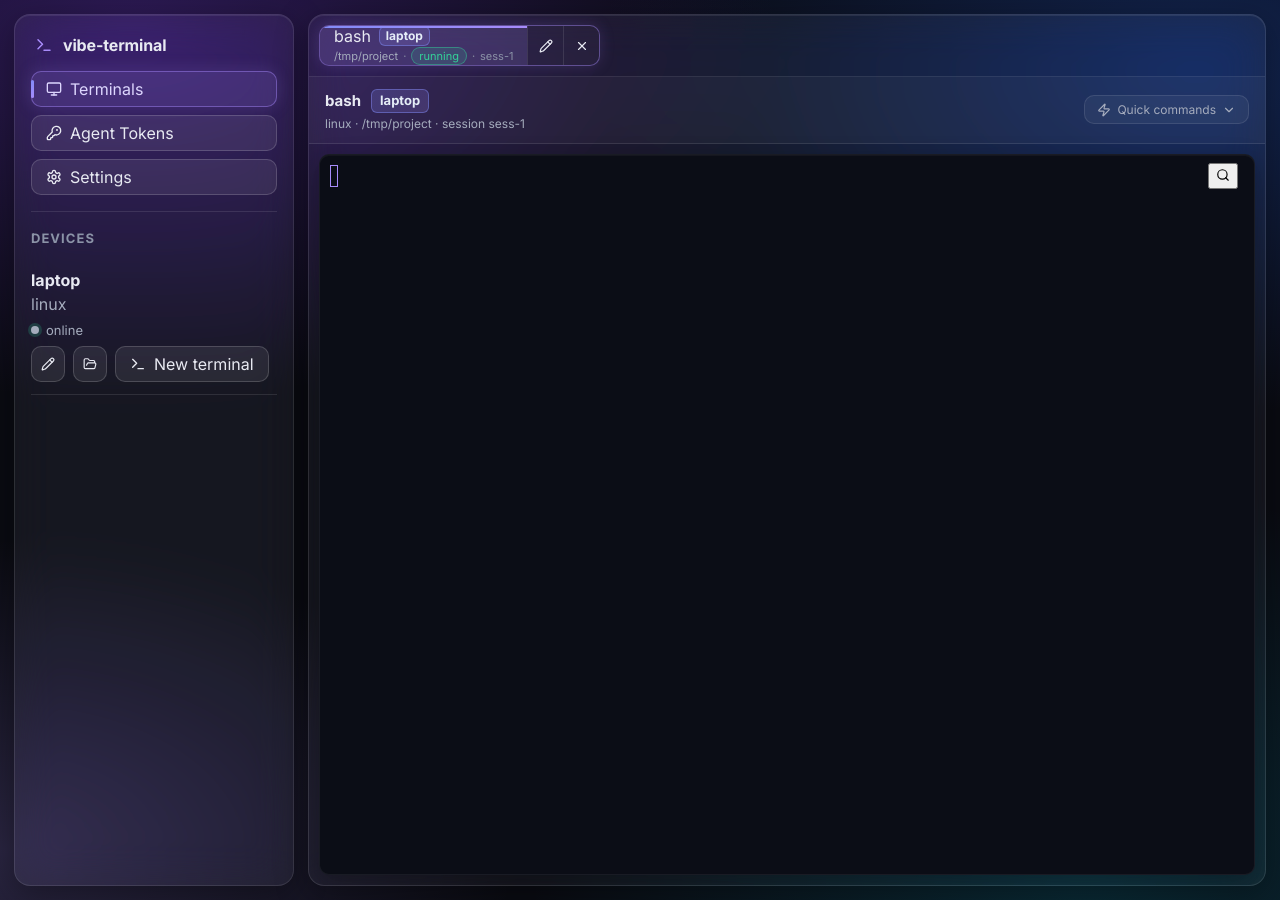
Test: AppView › renames and removes terminal tabs
Click the button named "rename bash" at (545, 46), box [527,26,563,65]
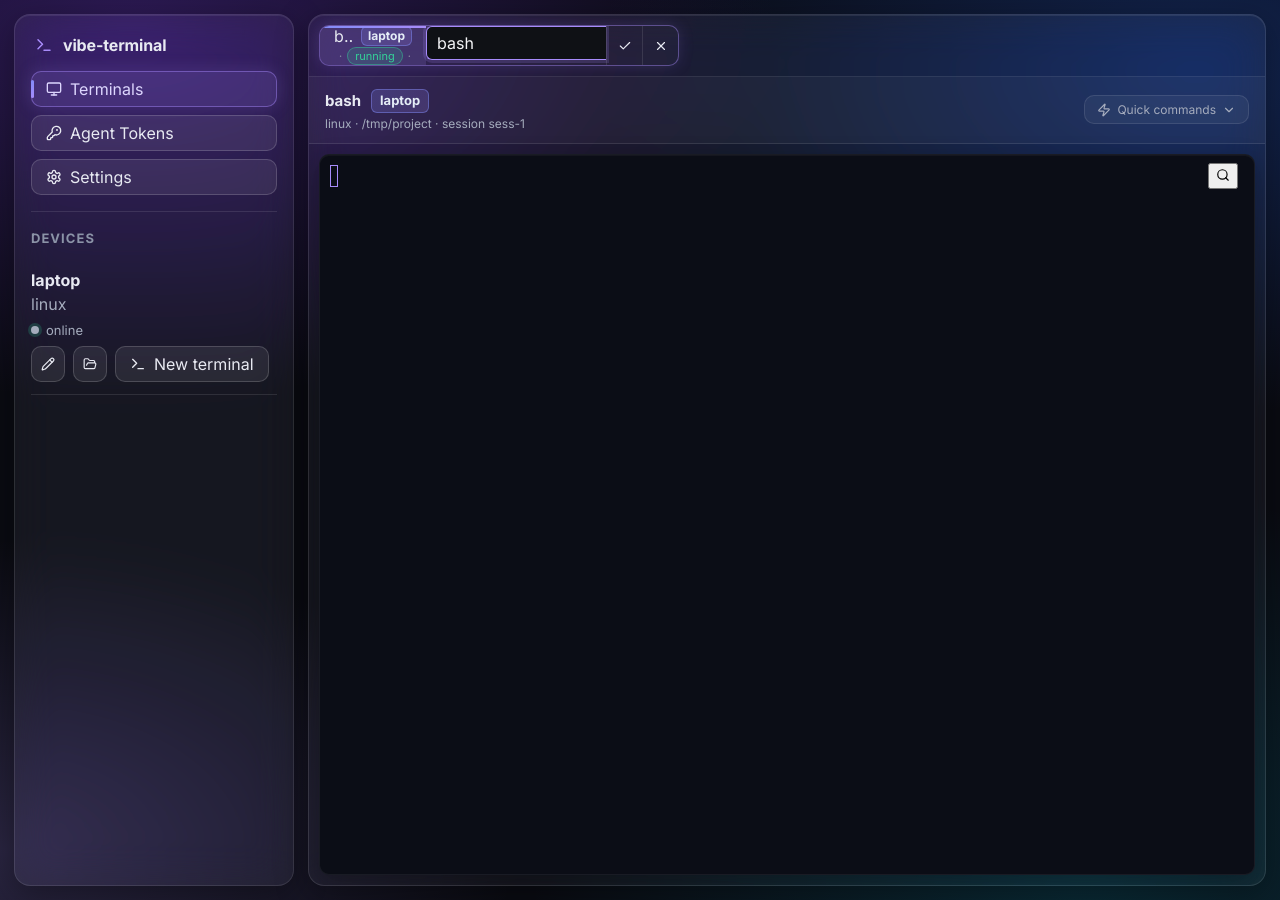
Replace the text in the field named "session title" with "api server" at (516, 43), box [426,26,606,60]
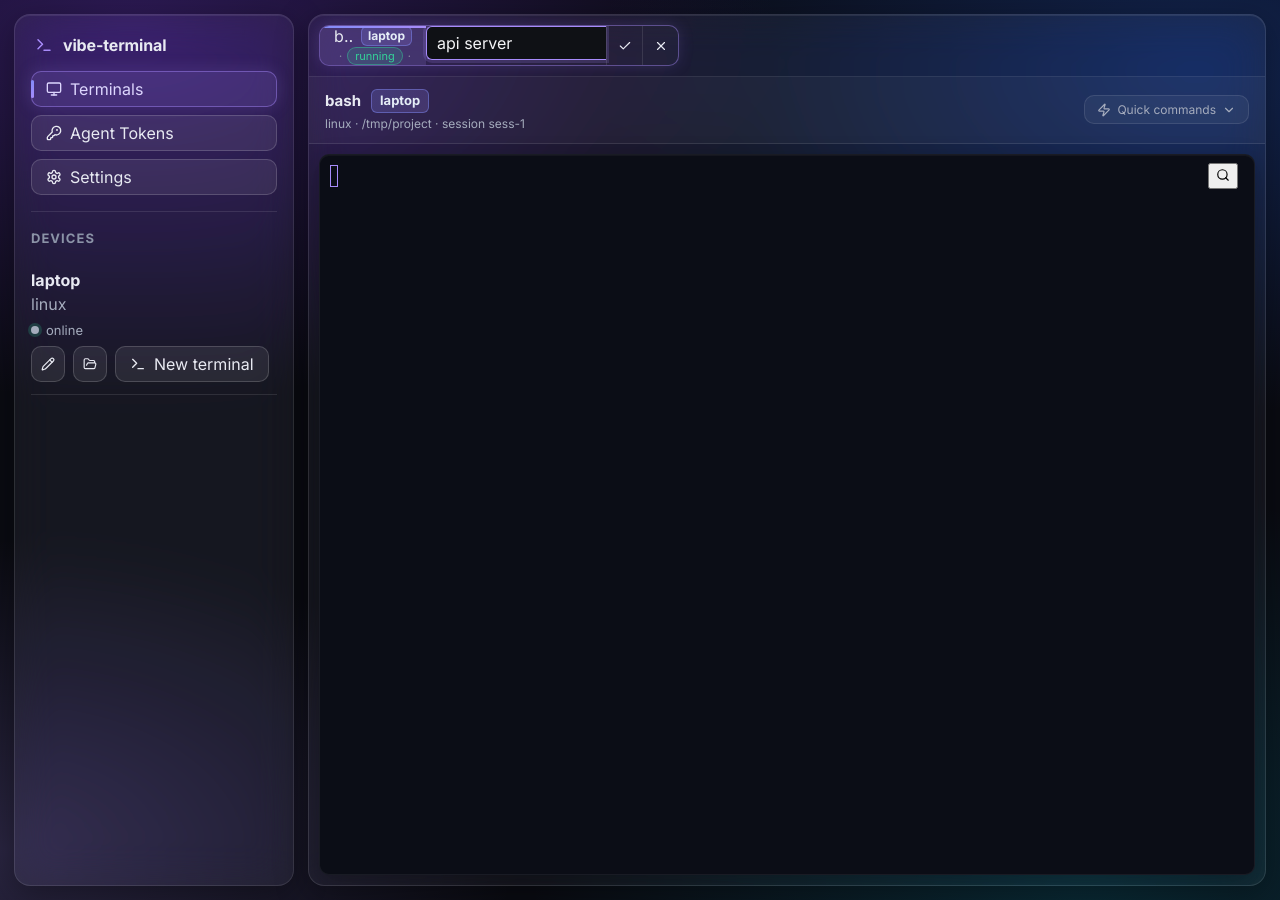
Click the button named "save" at (624, 46), box [606,26,642,65]
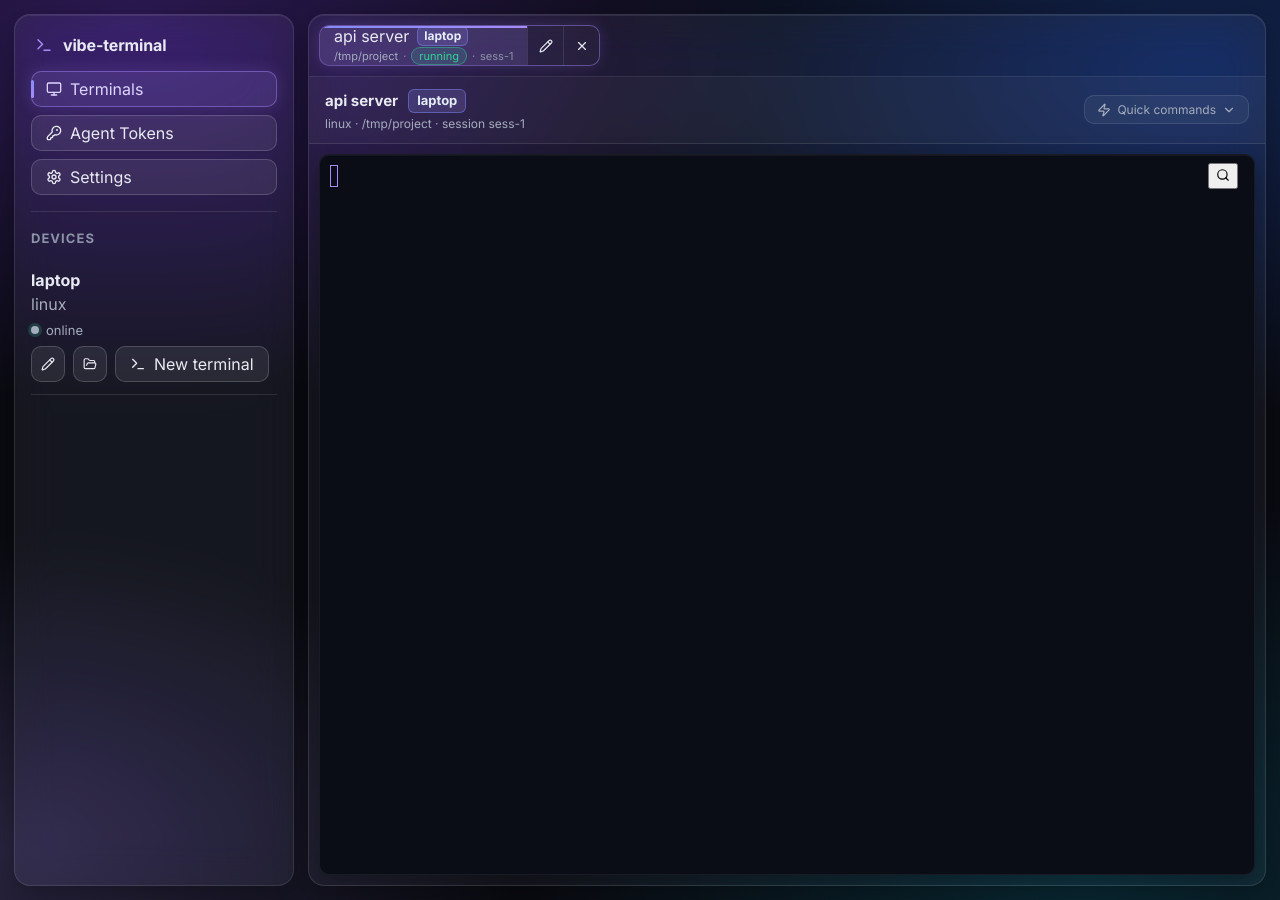
expect the tab "api server laptop /tmp/project · running · sess-1" is shown: met, box [320,26,527,65]
Click the button named "delete api server" at (581, 46), box [563,26,599,65]
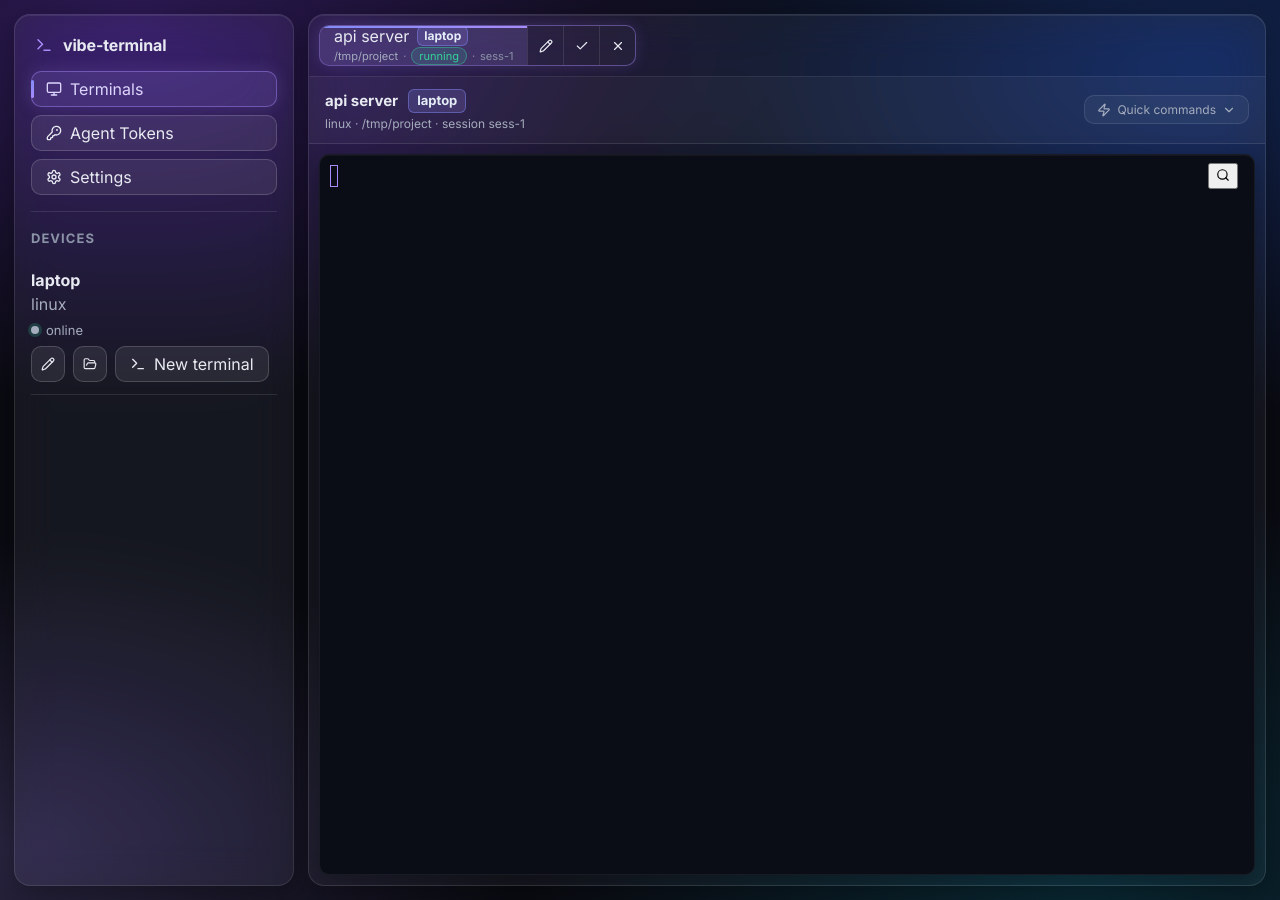
Click the button named "confirm delete api server" at (581, 46), box [563,26,599,65]
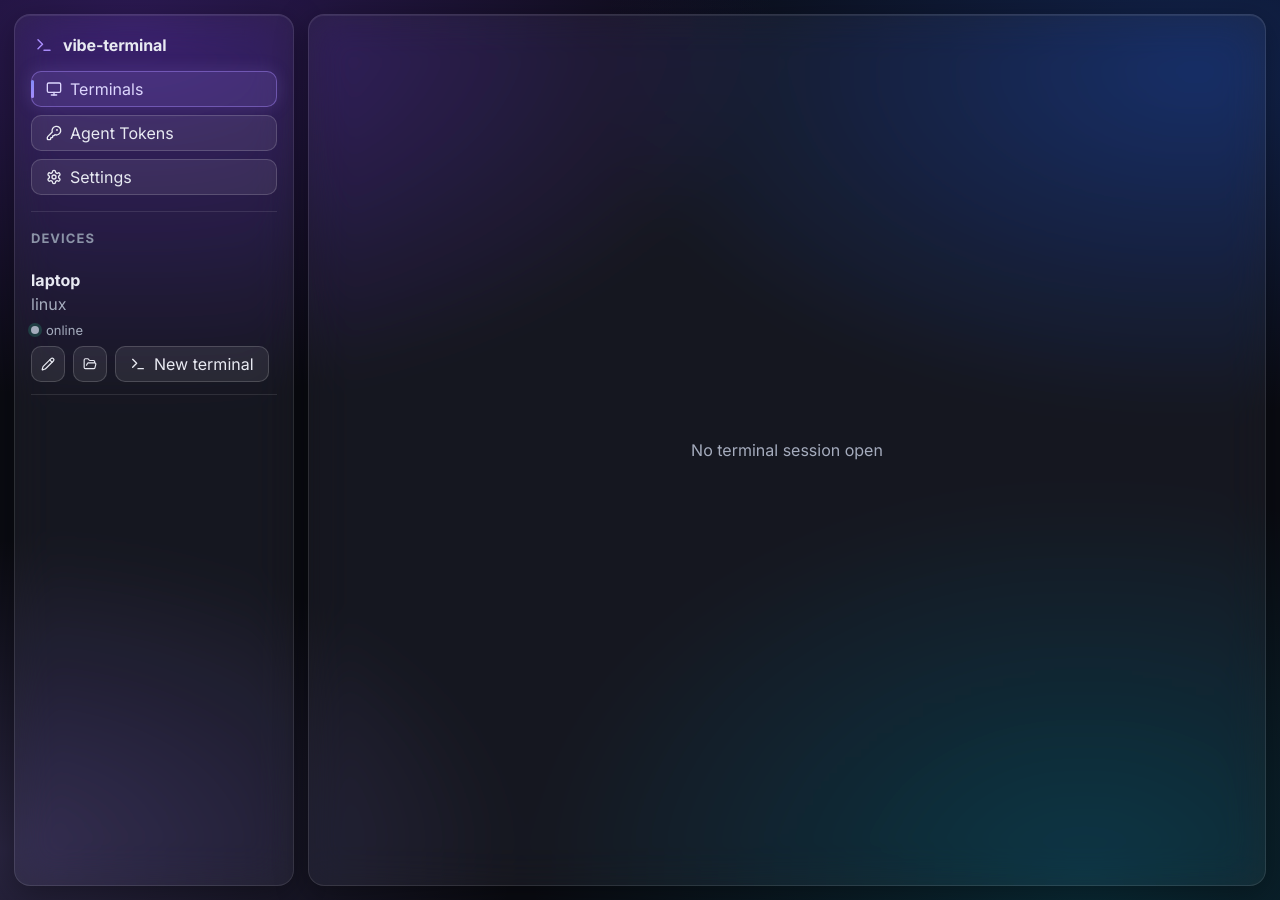
expect the tab "api server" is gone: met
